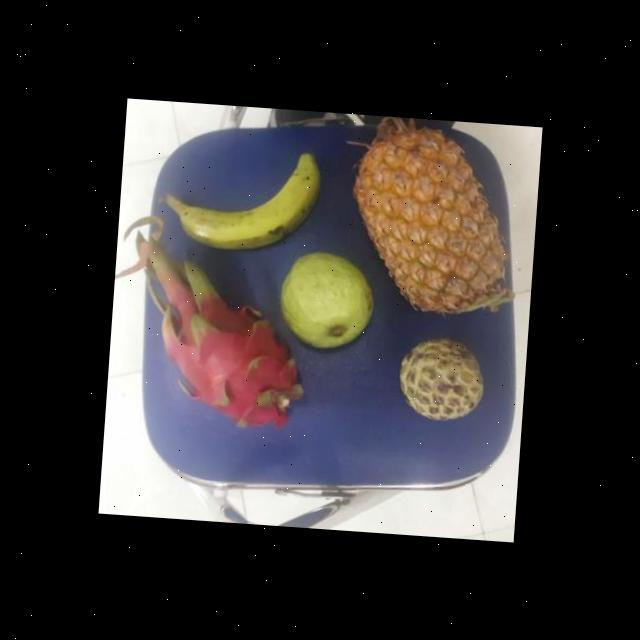Sakya fruit: (392, 336, 486, 424)
guava: (272, 252, 376, 353)
pineapple: (346, 123, 514, 318)
pitaya: (153, 289, 304, 436)
